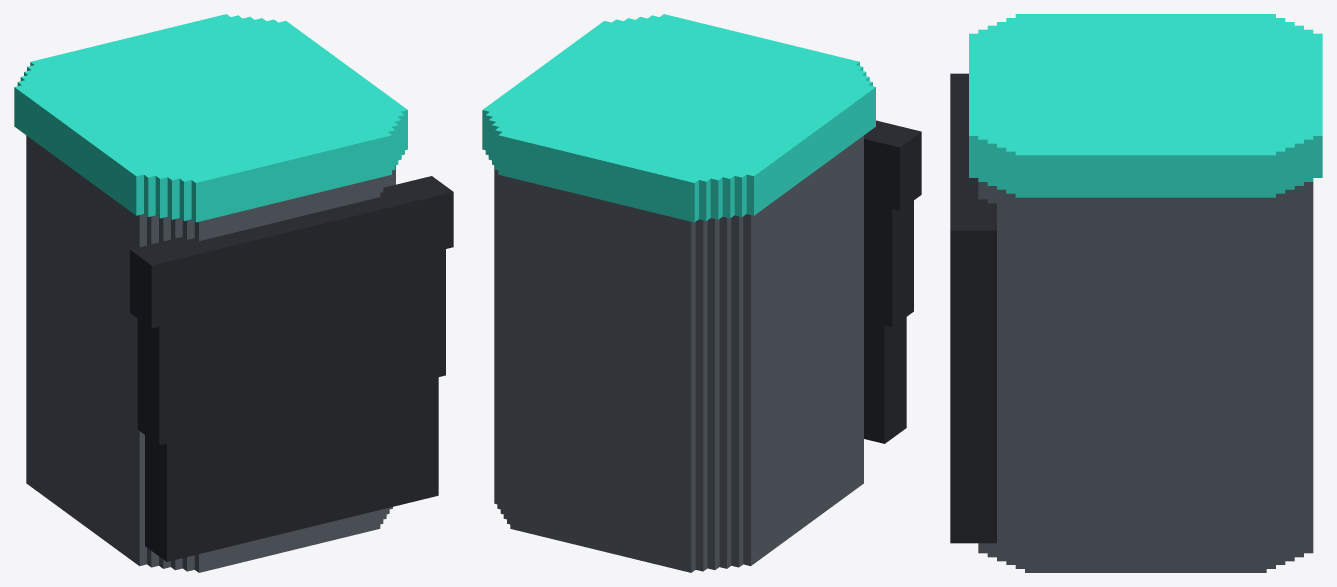
File: boots_power_worn_shaft.glb
The picture shows the model from 3 angles, left to right: view 1: azimuth 30°, elevation 25°; view 2: azimuth 150°, elevation 25°; view 3: azimuth 270°, elevation 25°; orthographic projection. The views are drawn at different scales.
Parts seen in each view (by area): view 1: boots_power_worn_shaft:compound; view 2: boots_power_worn_shaft:compound; view 3: boots_power_worn_shaft:compound.
Part boxes in pixels (x1,y1,x2,y2): boots_power_worn_shaft:compound: [14, 14, 453, 572]; boots_power_worn_shaft:compound: [482, 14, 921, 572]; boots_power_worn_shaft:compound: [950, 14, 1322, 572].
Bounding box in the file's own units: 0.16 × 0.2 × 0.16.
